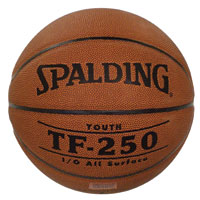basketball: (8, 8, 194, 194)
